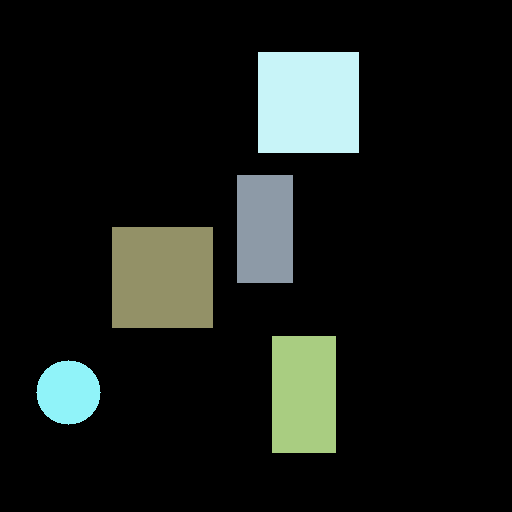circle: (36, 360, 100, 424)
rectangle: (272, 336, 335, 452), (237, 175, 292, 282)
square: (112, 227, 212, 327), (258, 52, 358, 152)
